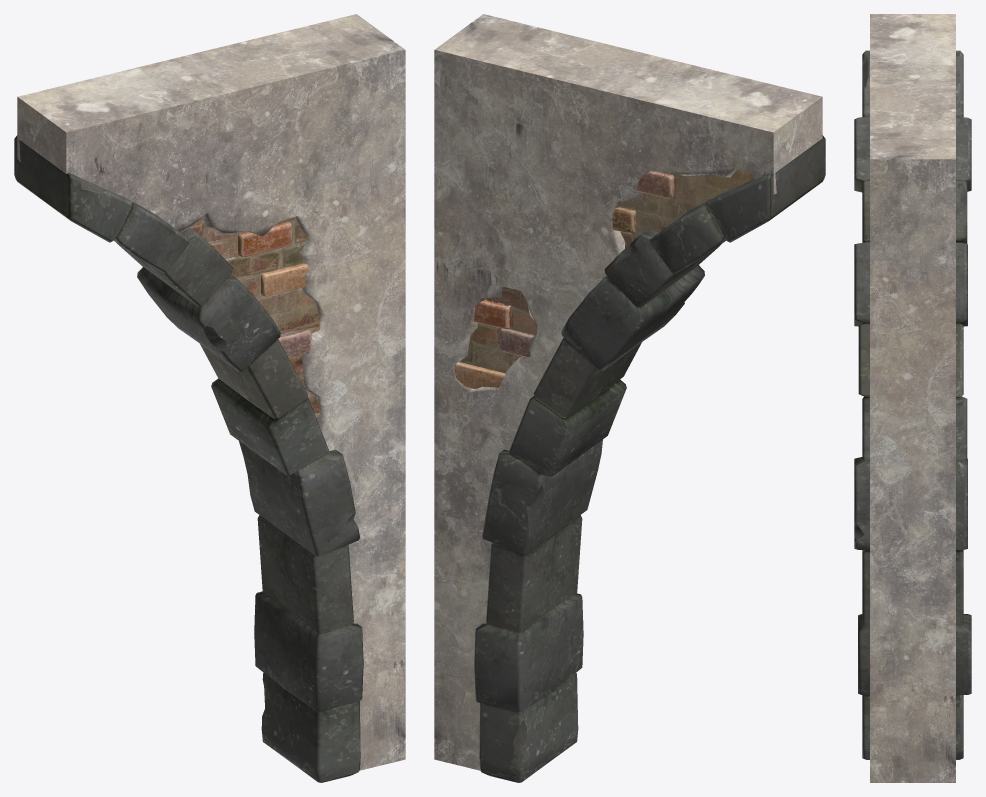
3 renders of one model, left to right at view 1: azimuth 30°, elevation 25°; view 2: azimuth 150°, elevation 25°; view 3: azimuth 270°, elevation 25°, orthographic. The views are drawn at different scales.
Visible parts, largest first — view 1: SM_Human_Ruins_Arch_Part_02v1_LOD0; view 2: SM_Human_Ruins_Arch_Part_02v1_LOD0; view 3: SM_Human_Ruins_Arch_Part_02v1_LOD0.
Boxes of the visible parts, x1,y1,x2,y2 form: SM_Human_Ruins_Arch_Part_02v1_LOD0: (14, 14, 405, 782); SM_Human_Ruins_Arch_Part_02v1_LOD0: (434, 14, 825, 782); SM_Human_Ruins_Arch_Part_02v1_LOD0: (854, 14, 971, 782).
Bounding box in the file's own units: 2 × 4 × 0.6832.
Materials: 4 (4 with a texture image).
